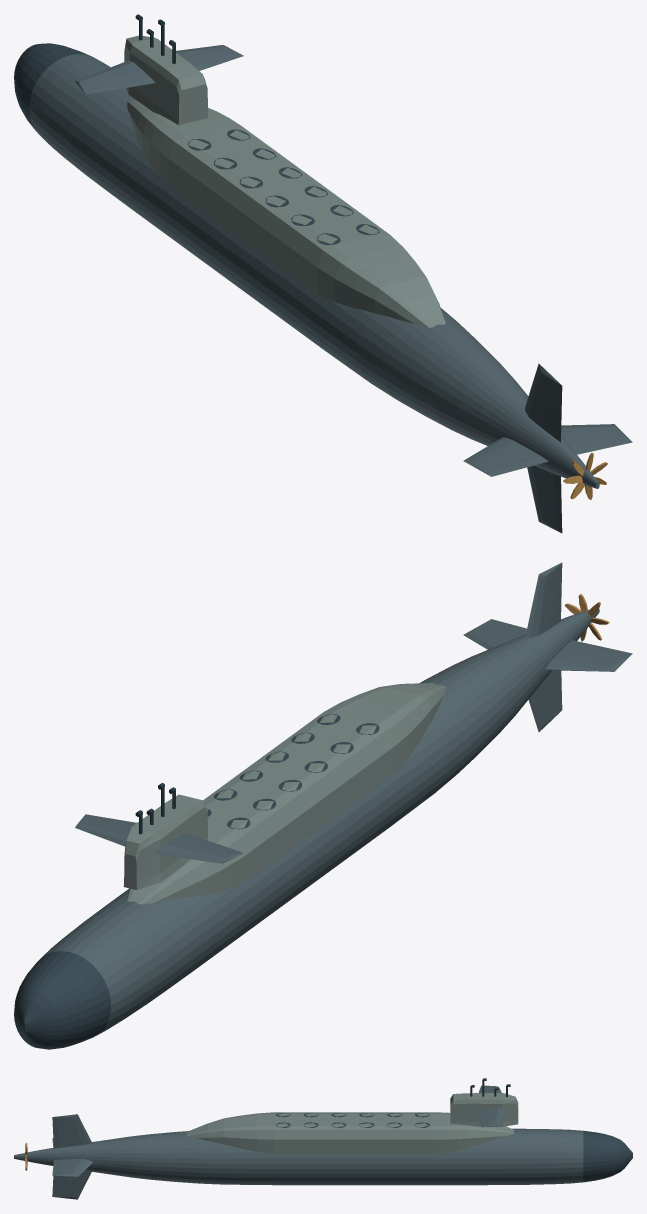
The model's file is archive-type-094-early.glb.
3 views of the same model, one above another, from view 1: azimuth 30°, elevation 25°; view 2: azimuth 150°, elevation 25°; view 3: azimuth 270°, elevation 25° (orthographic). The views are drawn at different scales.
Visible parts, largest first — view 1: archive-type-094-early-pressure_hull.003-geometry, archive-type-094-early-missileCasing.001-geometry, archive-type-094-early-submarine_sail.003-geometry, archive-type-094-early-stern_rudder_3.003-geometry, archive-type-094-early-stern_rudder_2.003-geometry, archive-type-094-early-stern_rudder_1.003-geometry, archive-type-094-early-stern_rudder_0.003-geometry, archive-type-094-early-diving_plane_-1.003-geometry, archive-type-094-early-diving_plane_1.003-geometry, archive-type-094-early-screw_0.003-geometry; view 2: archive-type-094-early-pressure_hull.003-geometry, archive-type-094-early-missileCasing.001-geometry, archive-type-094-early-submarine_sail.003-geometry, archive-type-094-early-stern_rudder_3.003-geometry, archive-type-094-early-stern_rudder_2.003-geometry, archive-type-094-early-diving_plane_-1.003-geometry, archive-type-094-early-stern_rudder_1.003-geometry, archive-type-094-early-diving_plane_1.003-geometry, archive-type-094-early-stern_rudder_0.003-geometry; view 3: archive-type-094-early-pressure_hull.003-geometry, archive-type-094-early-missileCasing.001-geometry, archive-type-094-early-submarine_sail.003-geometry, archive-type-094-early-stern_rudder_3.003-geometry, archive-type-094-early-stern_rudder_1.003-geometry, archive-type-094-early-stern_rudder_0.003-geometry, archive-type-094-early-diving_plane_1.003-geometry.
Part boxes in pixels (x1,y1,x2,y2): archive-type-094-early-pressure_hull.003-geometry: (14, 43, 599, 488); archive-type-094-early-missileCasing.001-geometry: (127, 99, 445, 327); archive-type-094-early-submarine_sail.003-geometry: (124, 14, 208, 125); archive-type-094-early-stern_rudder_3.003-geometry: (525, 363, 562, 442); archive-type-094-early-stern_rudder_2.003-geometry: (463, 437, 548, 476); archive-type-094-early-stern_rudder_1.003-geometry: (527, 465, 562, 533); archive-type-094-early-stern_rudder_0.003-geometry: (561, 424, 632, 454); archive-type-094-early-diving_plane_-1.003-geometry: (75, 60, 155, 94); archive-type-094-early-diving_plane_1.003-geometry: (176, 45, 243, 70); archive-type-094-early-screw_0.003-geometry: (563, 452, 607, 499); archive-type-094-early-pressure_hull.003-geometry: (14, 608, 599, 1049); archive-type-094-early-missileCasing.001-geometry: (127, 683, 445, 904); archive-type-094-early-submarine_sail.003-geometry: (123, 783, 208, 889); archive-type-094-early-stern_rudder_3.003-geometry: (525, 562, 562, 637); archive-type-094-early-stern_rudder_2.003-geometry: (546, 640, 632, 671); archive-type-094-early-diving_plane_-1.003-geometry: (154, 833, 243, 863); archive-type-094-early-stern_rudder_1.003-geometry: (528, 670, 562, 732); archive-type-094-early-diving_plane_1.003-geometry: (75, 814, 136, 846); archive-type-094-early-stern_rudder_0.003-geometry: (463, 619, 526, 649); archive-type-094-early-pressure_hull.003-geometry: (14, 1128, 632, 1185); archive-type-094-early-missileCasing.001-geometry: (186, 1112, 514, 1153); archive-type-094-early-submarine_sail.003-geometry: (450, 1078, 518, 1126); archive-type-094-early-stern_rudder_3.003-geometry: (52, 1114, 91, 1148); archive-type-094-early-stern_rudder_1.003-geometry: (52, 1170, 91, 1199); archive-type-094-early-stern_rudder_0.003-geometry: (52, 1159, 92, 1176); archive-type-094-early-diving_plane_1.003-geometry: (475, 1108, 506, 1127).
Size of the model in its own units: 1.6 by 2.16 by 10.
